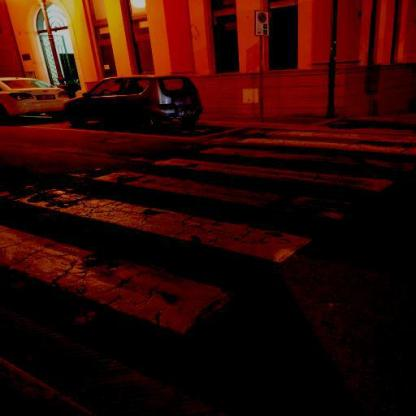crosswalk: (92, 156, 399, 225)
